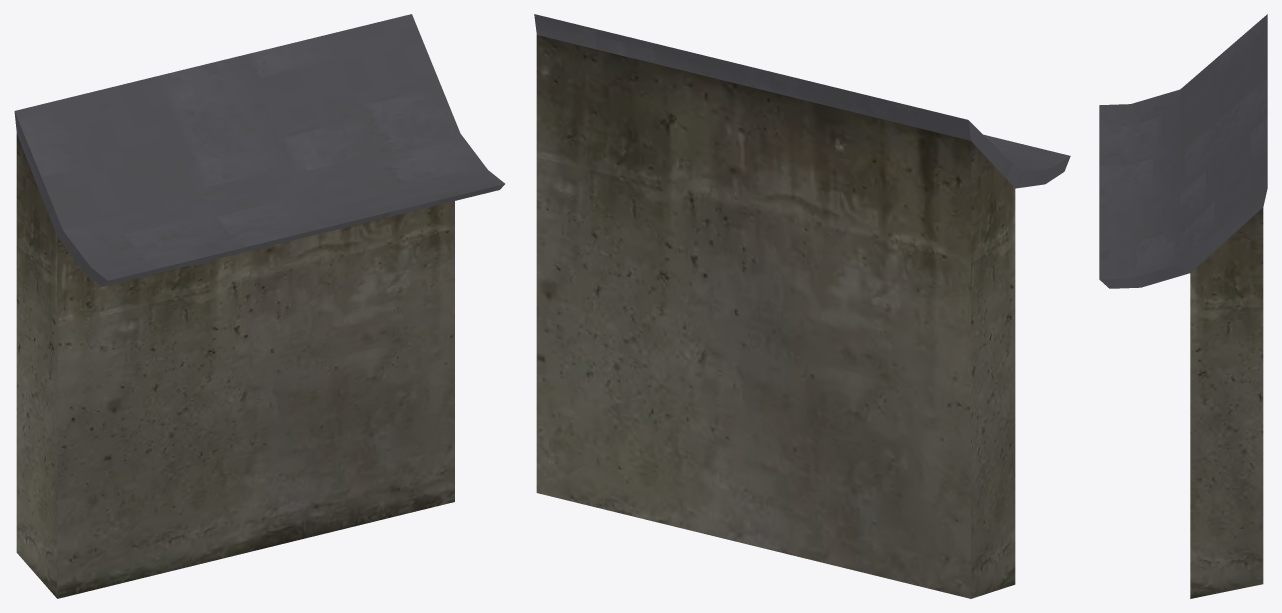
The model's file is pm-wall-module-05.glb.
The picture shows the model from 3 angles, left to right: view 1: azimuth 30°, elevation 25°; view 2: azimuth 150°, elevation 25°; view 3: azimuth 270°, elevation 25°; orthographic projection. The views are drawn at different scales.
Parts seen in each view (by area): view 1: Wall_Module_05; view 2: Wall_Module_05; view 3: Wall_Module_05.
Part boxes in pixels (x1=…): Wall_Module_05: x1=14, y1=14, x2=504, y2=598; Wall_Module_05: x1=534, y1=14, x2=1070, y2=598; Wall_Module_05: x1=1099, y1=14, x2=1267, y2=598.
Bounding box in the file's own units: 2.27 × 2.5 × 0.9269.
1 material, 1 textured.
